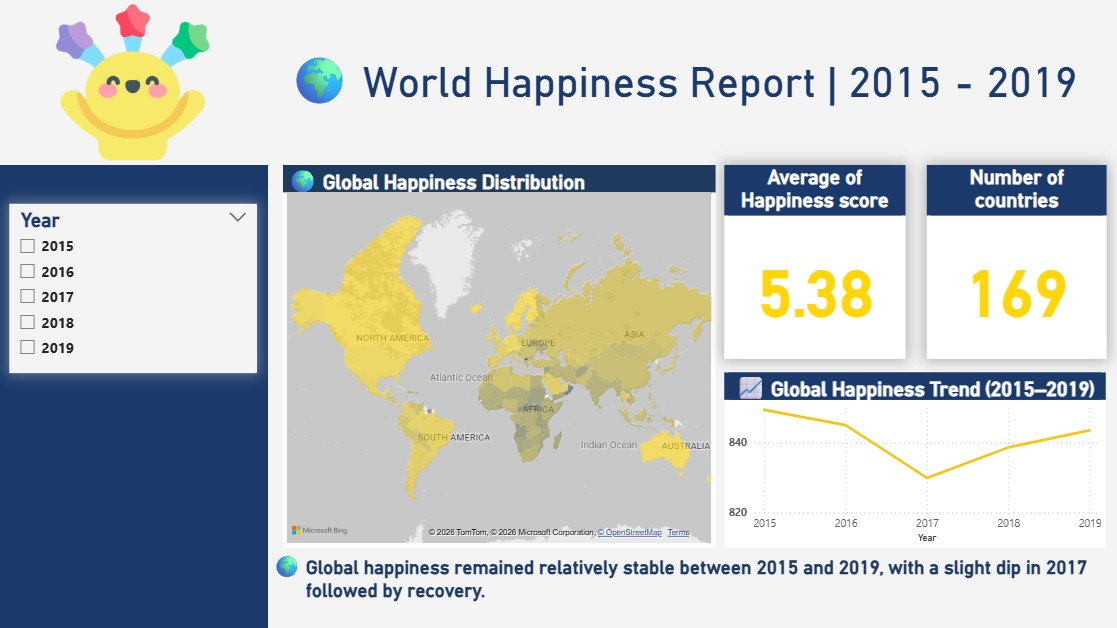

This screenshot's page, from the dashboard's own definition file:
{"tool":"powerbi","page":{"name":"Page 1","canvas":[1280,720],"ordinal":0},"visuals":[{"type":"shape","box":[0,188.6,308.6,531.4],"z":0},{"type":"textbox","box":[325.7,48.6,928.6,91.4],"z":1000},{"type":"image","box":[0,0,308.6,188.6],"z":2000},{"type":"lineChart","title":"📈 Global Happiness Trend (2015–2019)","fields":{"Category":["allData.Year"],"Y":["Sum(allData.Happiness Score)"]},"box":[830,425.7,435.7,200],"z":3000},{"type":"filledMap","title":"🌍 Global Happiness Distribution","fields":{"Category":["allData.Country"]},"box":[325.7,188.6,494.3,437.1],"z":4000},{"type":"slicer","fields":{"Values":["allData.Year"]},"box":[13.3,233.3,283.3,193.3],"z":5000},{"type":"textbox","box":[308.6,625.7,971.4,94.3],"z":7000},{"type":"card","title":"Average of Happiness score   ","fields":{"Values":["Avg(allData.Happiness Score)"]},"box":[830,188.6,207.1,221.4],"z":7001},{"type":"card","title":"Number of countries","fields":{"Values":["Count(allData.Country)"]},"box":[1061.4,188.6,205.7,221.4],"z":7002}]}

Visuals, with their boxes in screenshot pixels (x1, y1, x2, y2), scaled from the page's 1280x720 canvas onto the 1117x628 screenshot:
shape: region(0, 165, 269, 627)
textbox: region(284, 42, 1095, 122)
image: region(0, 0, 269, 165)
"📈 Global Happiness Trend (2015–2019)" lineChart: region(724, 371, 1105, 546)
"🌍 Global Happiness Distribution" filledMap: region(284, 165, 716, 546)
slicer - allData.Year: region(12, 203, 259, 372)
textbox: region(269, 546, 1116, 627)
"Average of Happiness score   " card: region(724, 165, 905, 358)
"Number of countries" card: region(926, 165, 1106, 358)
